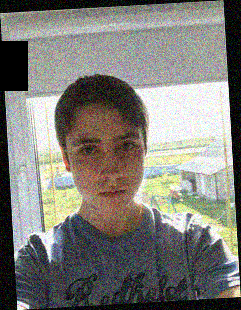without_mask: (69, 128, 147, 215)
